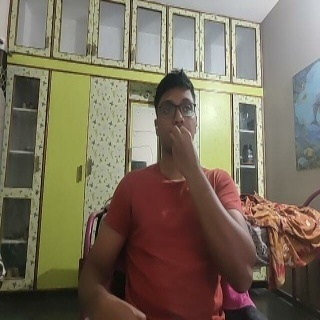Food: (167, 123, 200, 187)
